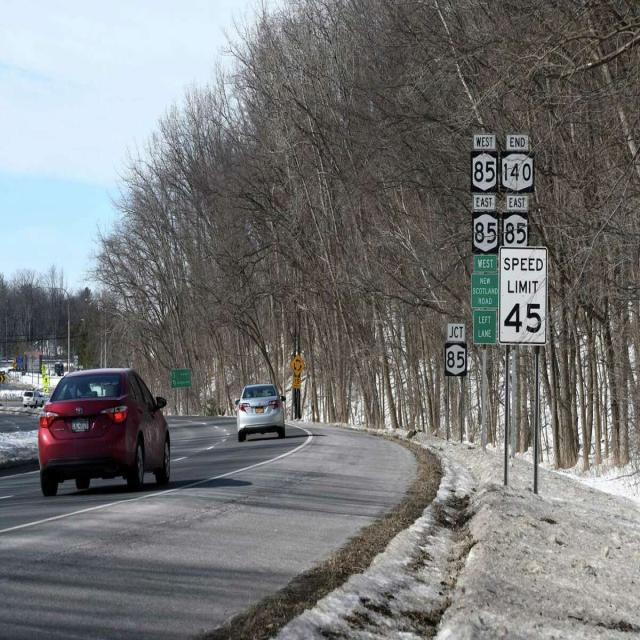speedLimit45: (495, 242, 552, 350)
